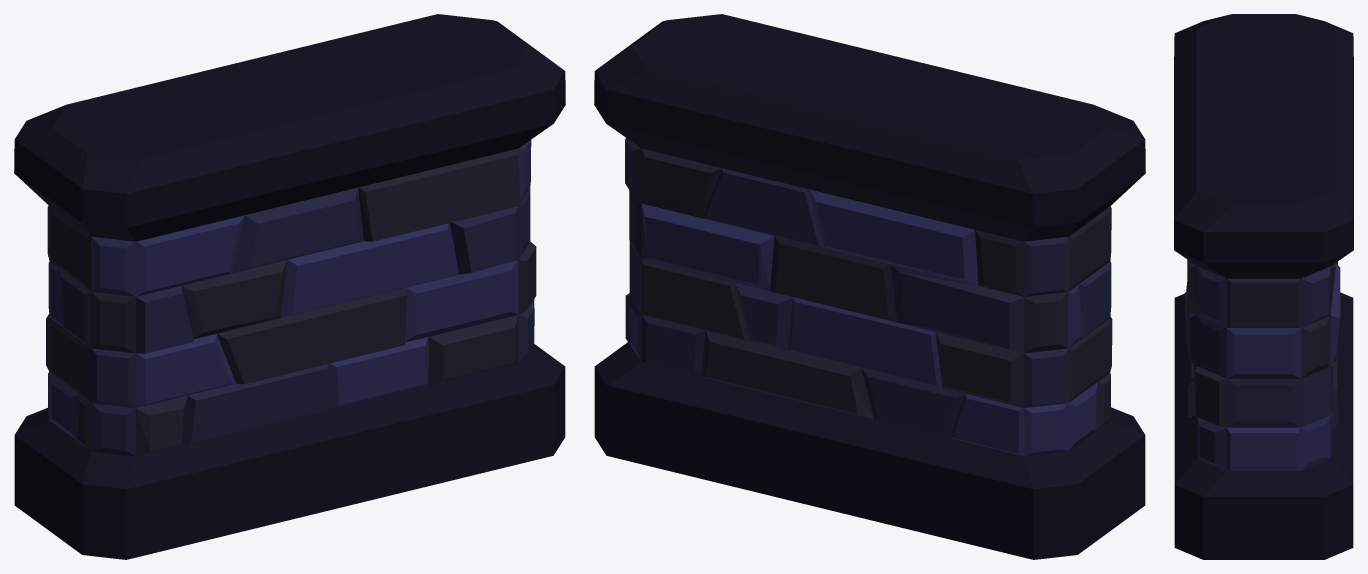
The model's file is Wall1.fbx.
3 views of the same model, side by side, from view 1: azimuth 30°, elevation 25°; view 2: azimuth 150°, elevation 25°; view 3: azimuth 270°, elevation 25° (orthographic). The views are drawn at different scales.
Parts seen in each view (by area): view 1: Object008; view 2: Object008; view 3: Object008.
Boxes of the visible parts, x1=… form: Object008: x1=14, y1=14, x2=565, y2=559; Object008: x1=594, y1=14, x2=1145, y2=559; Object008: x1=1174, y1=14, x2=1353, y2=559.
Bounding box in the file's own units: 48.03 × 17.27 × 36.44.
